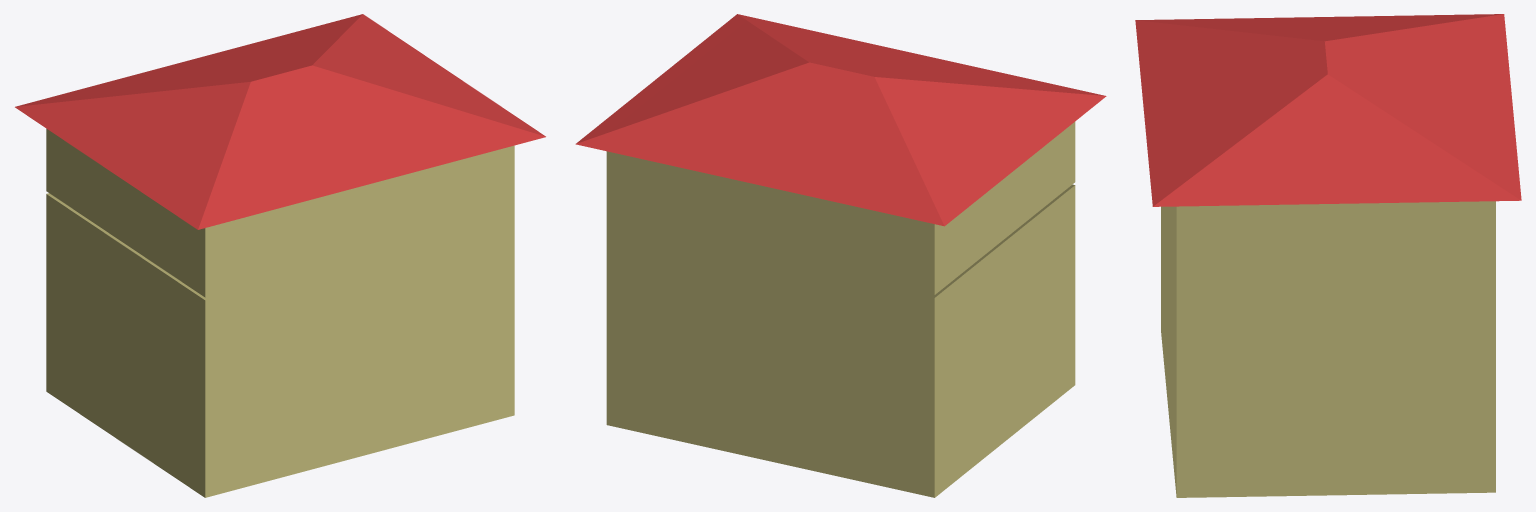
3 views of the same model, side by side, from view 1: azimuth 30°, elevation 25°; view 2: azimuth 150°, elevation 25°; view 3: azimuth 270°, elevation 25° (orthographic). The views are drawn at different scales.
Size of the model in its own units: 13.83 by 11.7 by 11.85.
